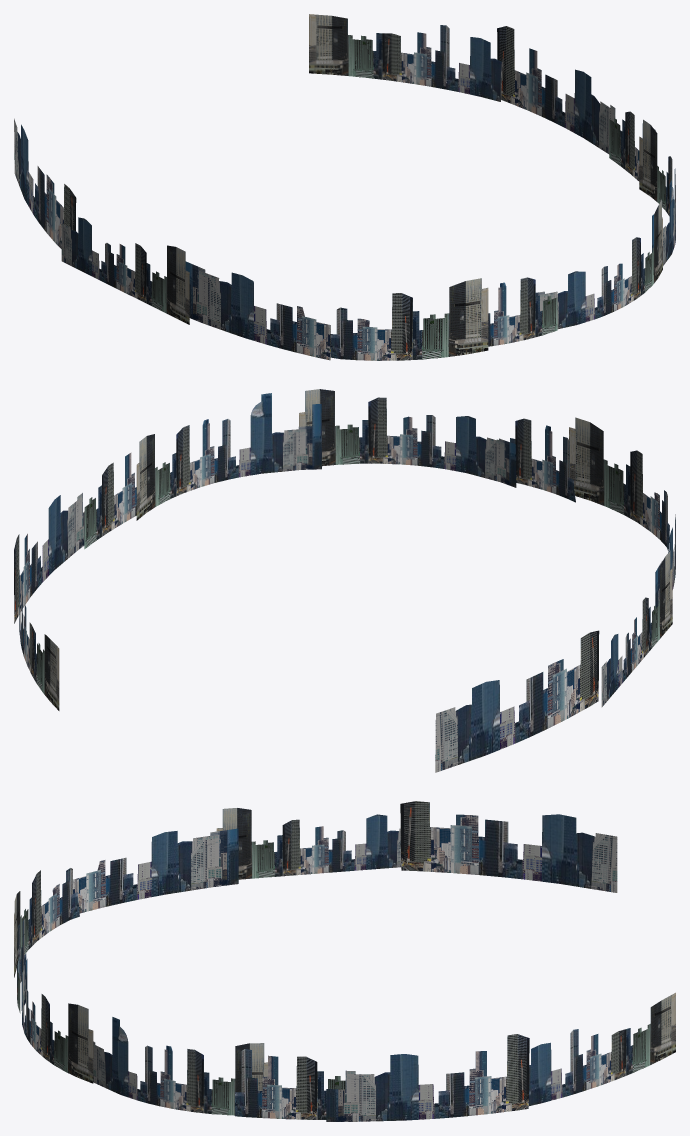
File: Re_Invent_track_building_wall.dae
The picture shows the model from 3 angles, top to bottom: view 1: azimuth 30°, elevation 25°; view 2: azimuth 150°, elevation 25°; view 3: azimuth 270°, elevation 25°; orthographic projection. The views are drawn at different scales.
Parts seen in each view (by area): view 1: building_wall; view 2: building_wall; view 3: building_wall.
Boxes of the visible parts, box(x1,y1,x2,y2) form: building_wall: box(14, 14, 675, 360); building_wall: box(14, 389, 675, 772); building_wall: box(14, 801, 675, 1121).
Bounding box in the file's own units: 69.02 × 75.55 × 9.62.
1 material, 1 textured.
